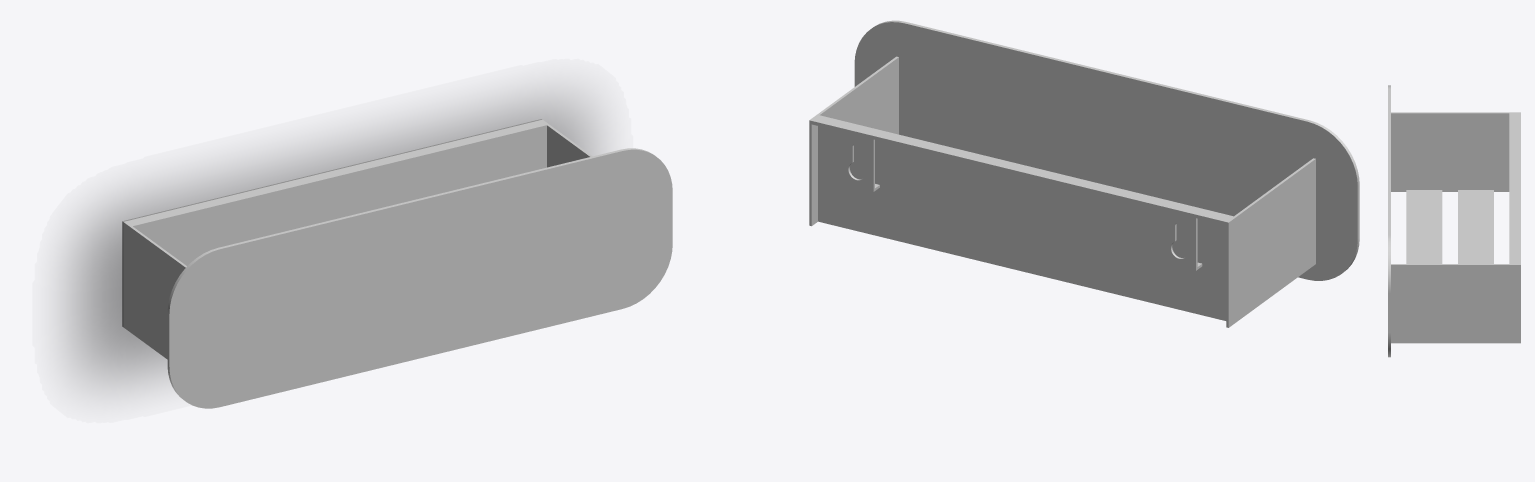
File: radius-mono.e2ea93b1ce.ar.glb
The picture shows the model from 3 angles, left to right: view 1: azimuth 30°, elevation 25°; view 2: azimuth 150°, elevation 25°; view 3: azimuth 270°, elevation 25°; orthographic projection. The views are drawn at different scales.
Visible parts, largest first — view 1: NAUO1, object 2; view 2: NAUO1; view 3: NAUO1.
Part boxes in pixels (x1,y1,x2,y2): NAUO1: (122, 119, 672, 408); object 2: (65, 96, 599, 385); NAUO1: (809, 20, 1359, 327); NAUO1: (1388, 85, 1520, 357).
Size of the model in its own units: 0.38 by 0.17 by 0.092.
2 materials, 1 textured.
